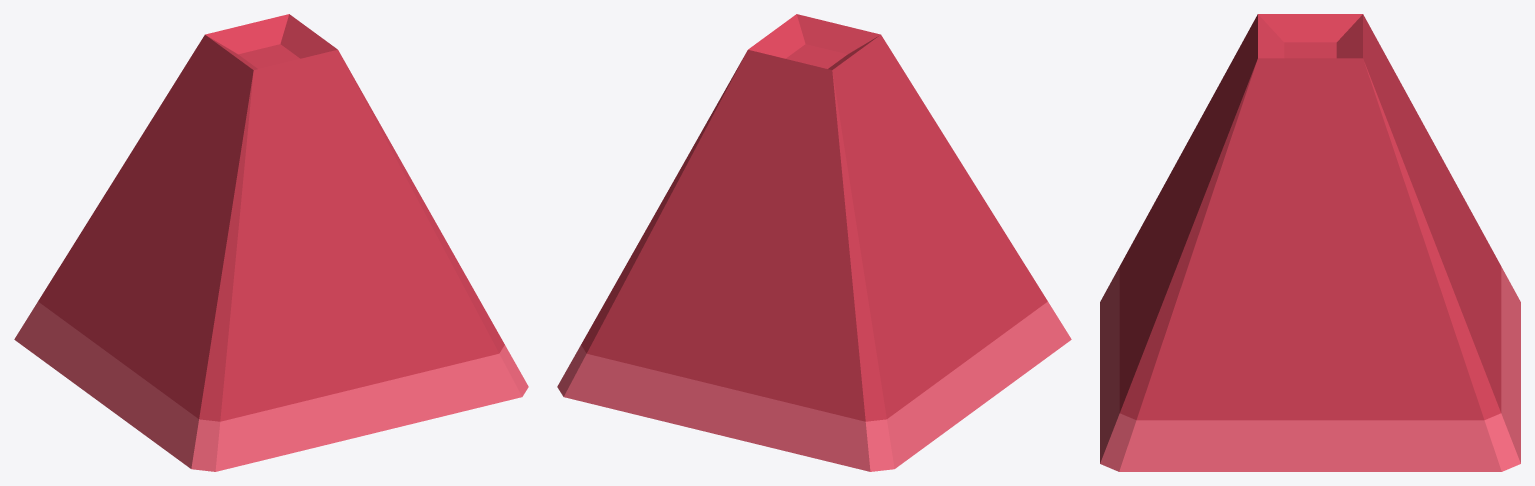
File: roofHighPoint.fbx
The picture shows the model from 3 angles, left to right: view 1: azimuth 30°, elevation 25°; view 2: azimuth 150°, elevation 25°; view 3: azimuth 270°, elevation 25°; orthographic projection. The views are drawn at different scales.
Parts seen in each view (by area): view 1: roofHighPoint; view 2: roofHighPoint; view 3: roofHighPoint.
Boxes of the visible parts, bbox=[...] form: roofHighPoint: bbox=[14, 14, 528, 471]; roofHighPoint: bbox=[557, 14, 1071, 471]; roofHighPoint: bbox=[1100, 14, 1520, 471].
Size of the model in its own units: 11 by 10 by 11.
